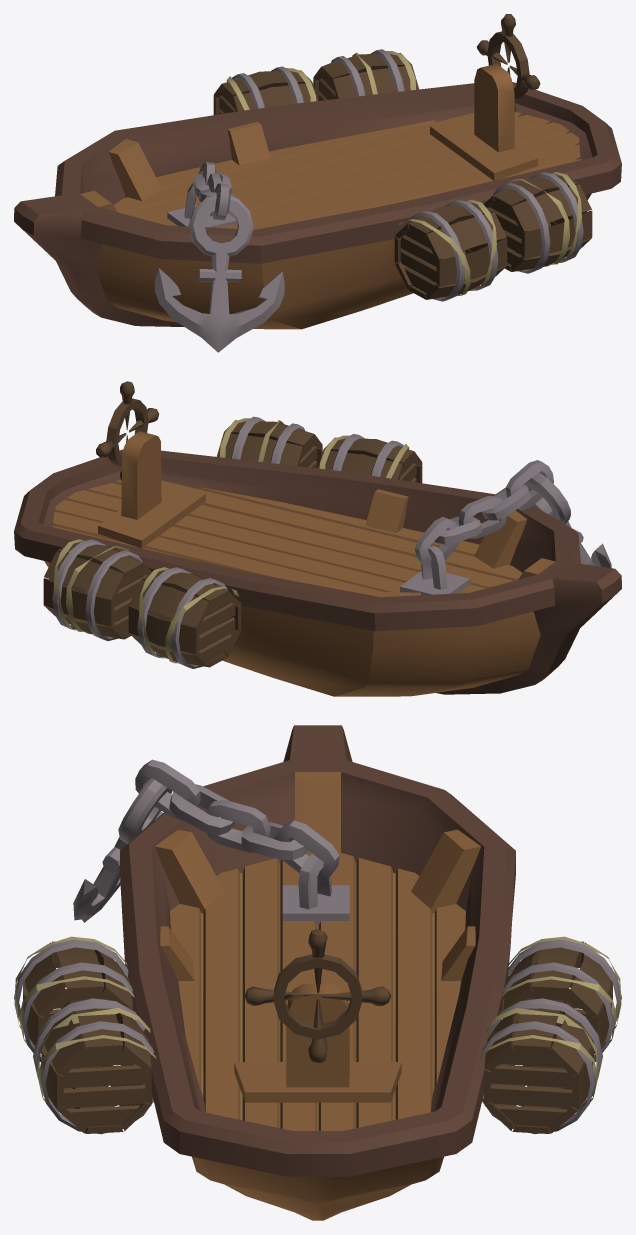
Rendered from Ship_Small.glb.
The picture shows the model from 3 angles, top to bottom: view 1: azimuth 30°, elevation 25°; view 2: azimuth 150°, elevation 25°; view 3: azimuth 270°, elevation 25°; orthographic projection. The views are drawn at different scales.
Parts seen in each view (by area): view 1: Ship_Small; view 2: Ship_Small; view 3: Ship_Small.
Part boxes in pixels (x1=…): Ship_Small: x1=14, y1=14, x2=621, y2=352; Ship_Small: x1=14, y1=381, x2=621, y2=696; Ship_Small: x1=14, y1=725, x2=621, y2=1220.
Bounding box in the file's own units: 5.14 × 1.99 × 3.59.
1 material, 1 textured.
